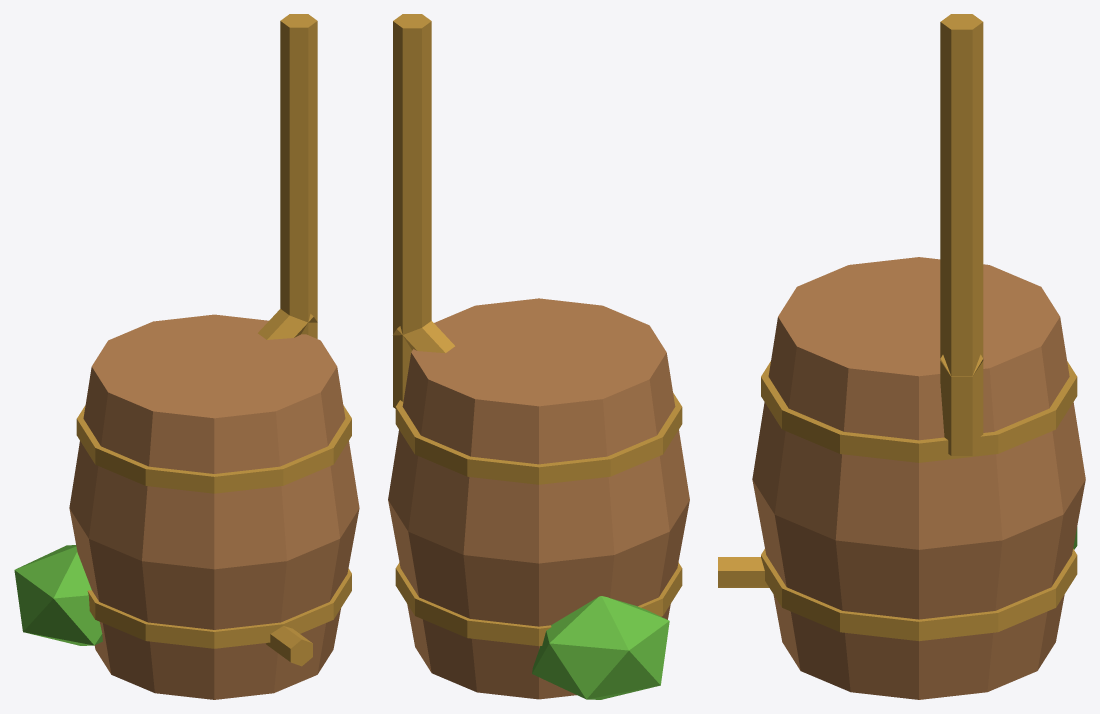
The model's file is rain_barrel.glb.
The picture shows the model from 3 angles, left to right: view 1: azimuth 30°, elevation 25°; view 2: azimuth 150°, elevation 25°; view 3: azimuth 270°, elevation 25°; orthographic projection. The views are drawn at different scales.
Parts seen in each view (by area): view 1: rain_barrel; view 2: rain_barrel; view 3: rain_barrel.
Boxes of the visible parts, x1,y1,x2,y2 form: rain_barrel: [14, 14, 359, 699]; rain_barrel: [388, 14, 689, 699]; rain_barrel: [718, 14, 1085, 699].
Size of the model in its own units: 0.8689 by 1.75 by 0.86.
